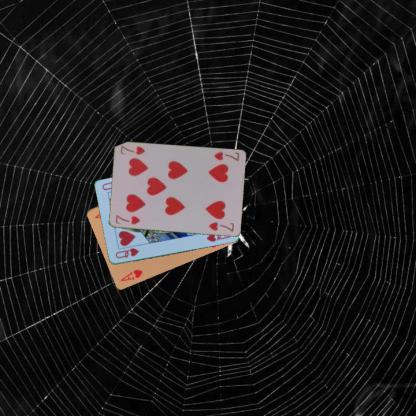7h: (113, 212, 141, 226), (210, 149, 240, 162)
Ah: (118, 267, 144, 282)
Qh: (112, 246, 140, 260)
